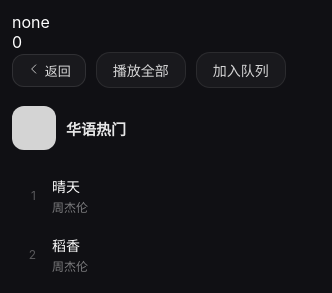
Test: PlaylistDetail — DM-06 › renders songs and plays one on click
This screenshot has width=332, height=293.
Click the text "晴天": (66, 186) left=52, top=176, right=80, bottom=196
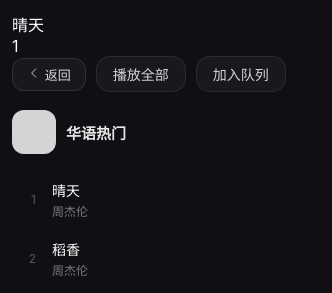
Now the text with test id "current" reads "晴天", box left=12, top=15, right=44, bottom=35
